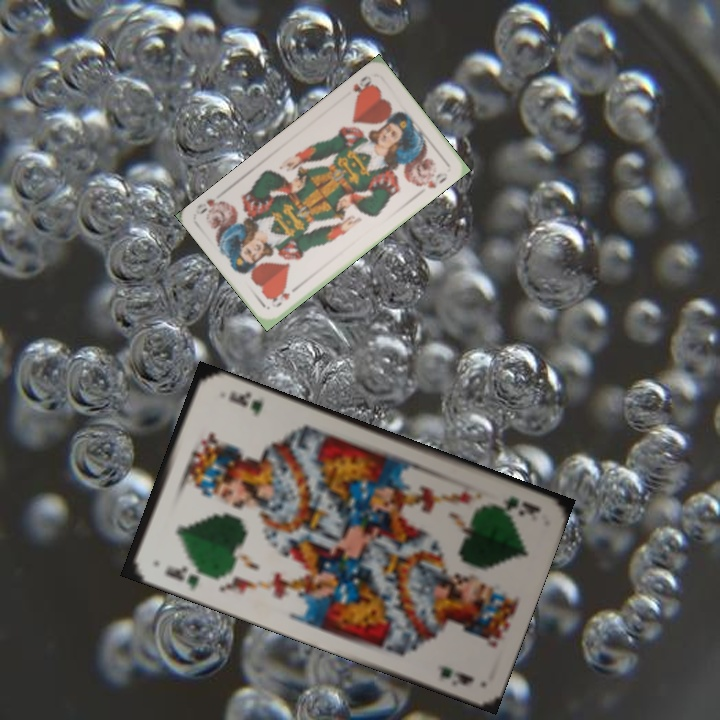GK: (160, 561, 210, 593), (498, 491, 544, 518)
HO: (267, 281, 302, 310), (349, 71, 376, 100)
